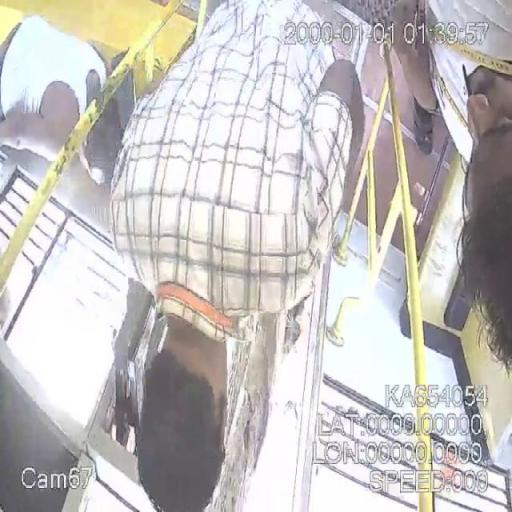persona: (104, 0, 367, 511), (423, 0, 511, 376), (1, 13, 112, 188)
